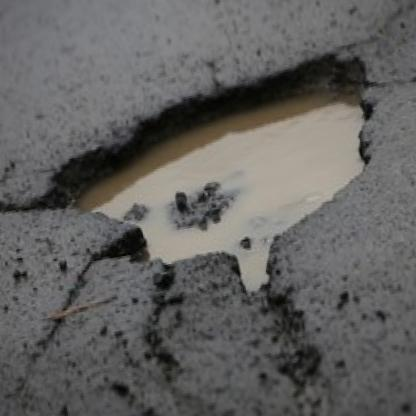pothole: (26, 42, 404, 329)
